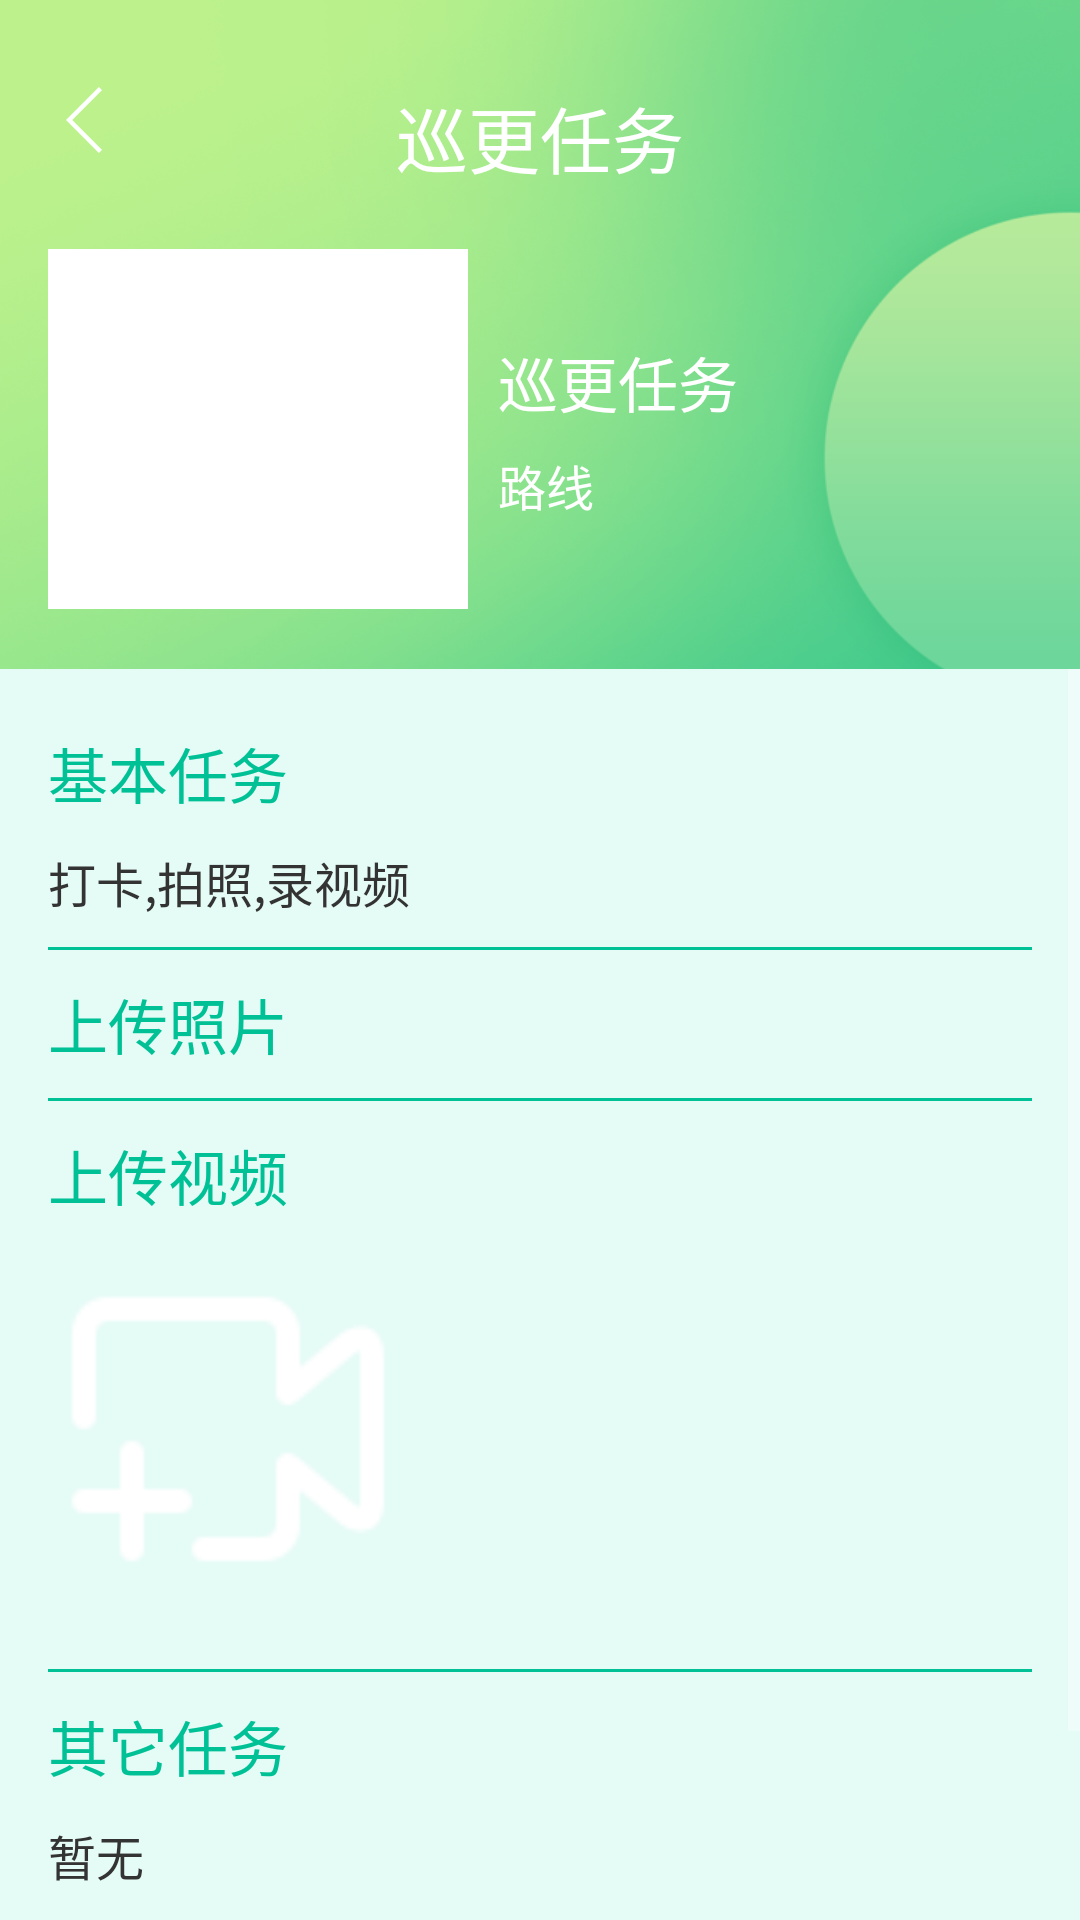

Icon click points for this 1080px×1920px phone screenshot, format point (x, y):
back: point (84, 120)
